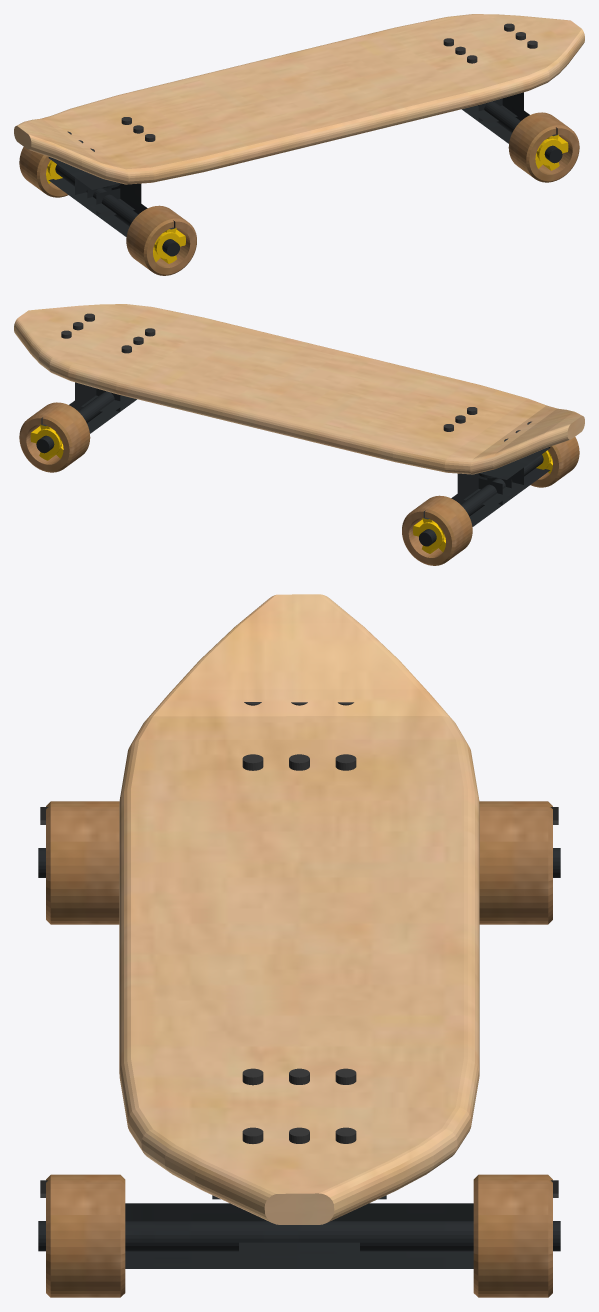
Rendered from Sports_Skateboard__0091.glb.
The picture shows the model from 3 angles, top to bottom: view 1: azimuth 30°, elevation 25°; view 2: azimuth 150°, elevation 25°; view 3: azimuth 270°, elevation 25°; orthographic projection. The views are drawn at different scales.
Parts seen in each view (by area): view 1: deck::deck_board, rear_hanger::hanger, front_wheel_0::urethane_ring, rear_wheel_0::urethane_ring, front_hanger::hanger, rear_wheel_1::urethane_ring, rear_baseplate::baseplate, front_wheel_0::hub_core, rear_wheel_0::hub_core; view 2: deck::deck_board, rear_hanger::hanger, front_wheel_1::urethane_ring, rear_wheel_1::urethane_ring, front_hanger::hanger, rear_wheel_0::urethane_ring, rear_baseplate::baseplate, front_wheel_1::hub_core, rear_wheel_1::hub_core; view 3: deck::deck_board, front_hanger::hanger, front_wheel_0::urethane_ring, front_wheel_1::urethane_ring, rear_wheel_0::urethane_ring, rear_wheel_1::urethane_ring.
Part boxes in pixels (x1,y1,x2,y2): deck::deck_board: [14, 14, 584, 184]; rear_hanger::hanger: [48, 164, 179, 256]; front_wheel_0::urethane_ring: [508, 112, 579, 182]; rear_wheel_0::urethane_ring: [126, 205, 196, 275]; front_hanger::hanger: [462, 92, 562, 163]; rear_wheel_1::urethane_ring: [19, 147, 67, 197]; rear_baseplate::baseplate: [48, 157, 120, 189]; front_wheel_0::hub_core: [535, 134, 568, 170]; rear_wheel_0::hub_core: [153, 228, 185, 263]; deck::deck_board: [14, 304, 584, 474]; rear_hanger::hanger: [419, 454, 550, 546]; front_wheel_1::urethane_ring: [19, 402, 90, 472]; rear_wheel_1::urethane_ring: [402, 495, 472, 565]; front_hanger::hanger: [36, 382, 136, 453]; rear_wheel_0::urethane_ring: [531, 437, 579, 487]; rear_baseplate::baseplate: [478, 447, 550, 479]; front_wheel_1::hub_core: [30, 424, 63, 460]; rear_wheel_1::hub_core: [413, 518, 445, 553]; deck::deck_board: [119, 594, 479, 1224]; front_hanger::hanger: [38, 1203, 560, 1268]; front_wheel_0::urethane_ring: [46, 1174, 125, 1297]; front_wheel_1::urethane_ring: [473, 1174, 552, 1297]; rear_wheel_0::urethane_ring: [46, 801, 119, 924]; rear_wheel_1::urethane_ring: [479, 801, 552, 924].
Size of the model in its own units: 0.55 by 0.1145 by 0.2248.
5 materials, 5 textured.
